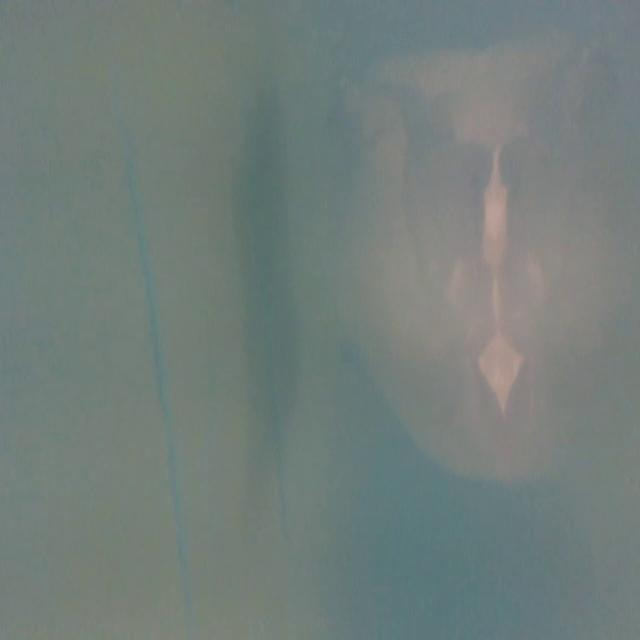plastic bags: (338, 73, 634, 483)
